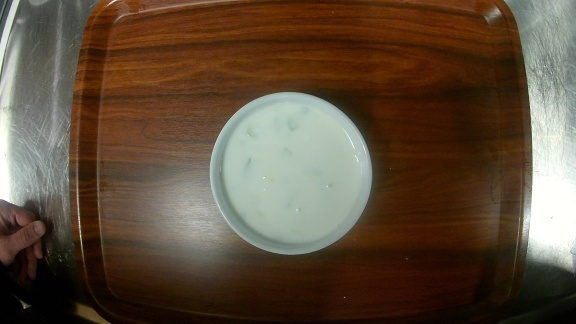cacik: (209, 92, 374, 254)
